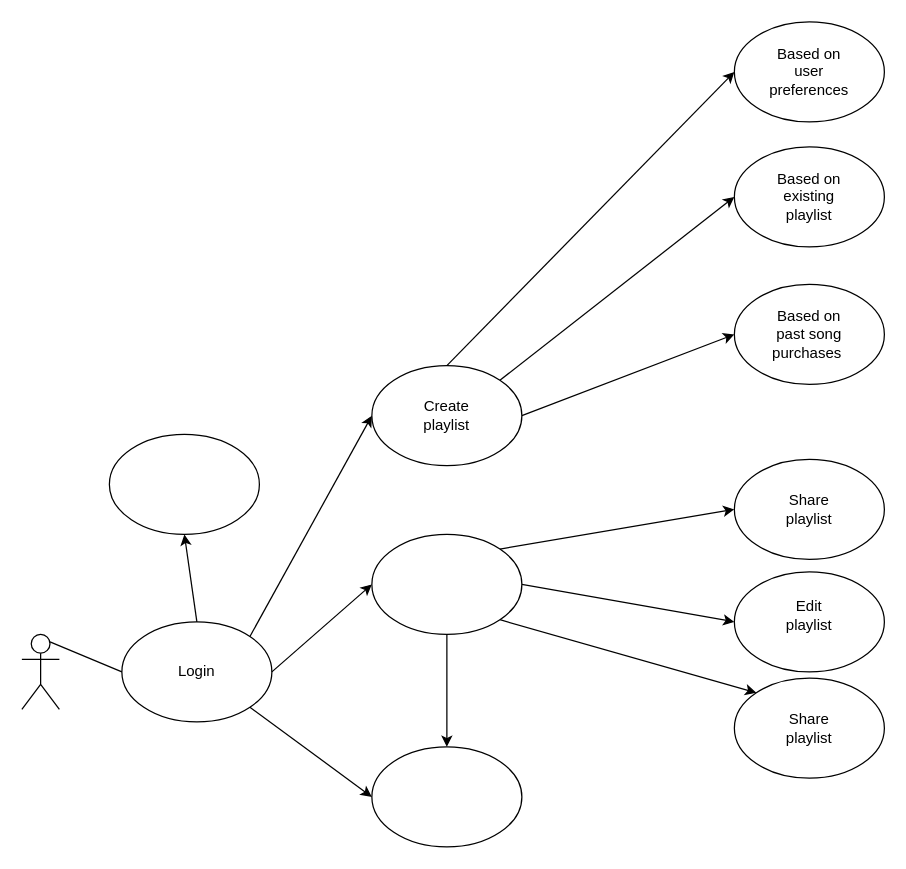
Image size: 906x869. Some labels were removed from this diagram. Here are the shapes that lost their labels. From the top down, the centre of each, then its label:
(183,483): Register
(446,583): View playlist
(40,671): Actor
(446,796): Import playlist
